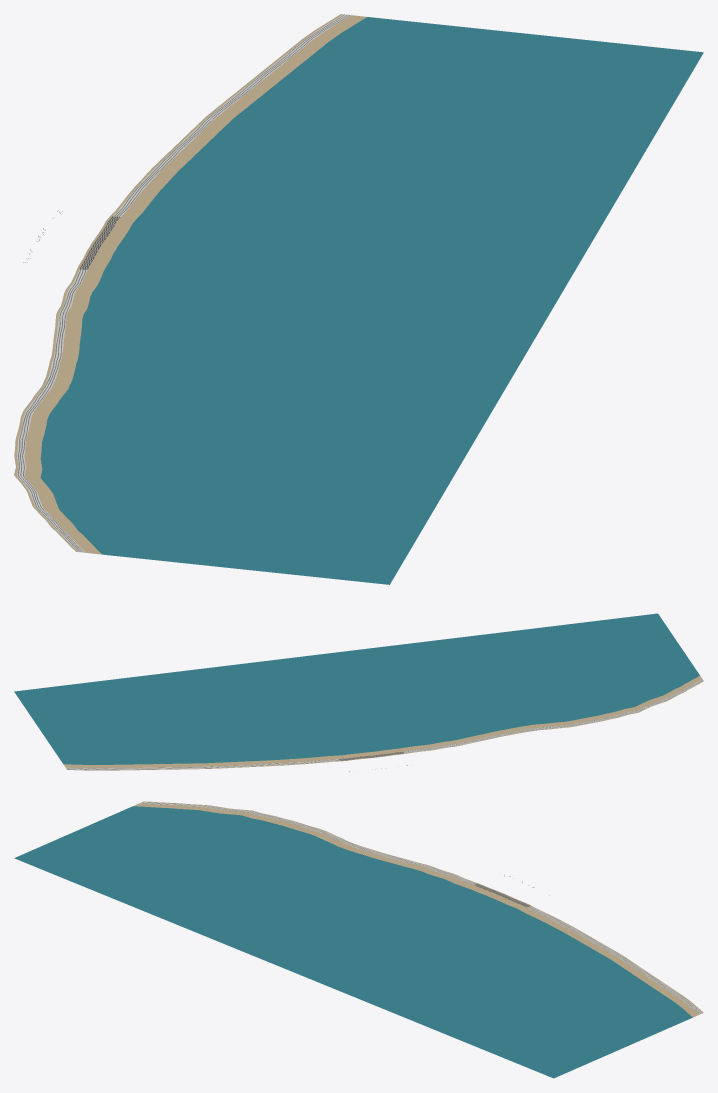
Rendered from R13_OSM_Coastal_Sectors.fbx.
3 views of the same model, one above another, from view 1: azimuth 30°, elevation 25°; view 2: azimuth 150°, elevation 25°; view 3: azimuth 270°, elevation 25° (orthographic). The views are drawn at different scales.
Parts seen in each view (by area): view 1: R13_S05_ocean_far, R13_S04_ocean_far, R13_S06_ocean_far, R13_S03_ocean_far, R13_S07_ocean_far, R13_S02_ocean_far, R13_S01_ocean_far, R13_S08_ocean_far, R13_S09_ocean_far, R13_S00_ocean_far, R13_S09_ocean_near, R13_S08_ocean_near (+8 smaller); view 2: R13_S05_ocean_far, R13_S04_ocean_far, R13_S06_ocean_far, R13_S03_ocean_far, R13_S07_ocean_far, R13_S02_ocean_far, R13_S01_ocean_far, R13_S08_ocean_far, R13_S09_ocean_far, R13_S00_ocean_far, R13_S08_ocean_near, R13_S05_ocean_near (+8 smaller); view 3: R13_S05_ocean_far, R13_S04_ocean_far, R13_S06_ocean_far, R13_S03_ocean_far, R13_S07_ocean_far, R13_S02_ocean_far, R13_S01_ocean_far, R13_S08_ocean_far, R13_S09_ocean_far, R13_S00_ocean_far, R13_S00_ocean_near, R13_S01_ocean_near (+8 smaller).
Part boxes in pixels (left/top/right/bottom): R13_S05_ocean_far: left=141, top=223, right=577, bottom=318; R13_S04_ocean_far: left=119, top=276, right=546, bottom=371; R13_S06_ocean_far: left=174, top=171, right=609, bottom=265; R13_S03_ocean_far: left=109, top=330, right=514, bottom=424; R13_S07_ocean_far: left=221, top=120, right=640, bottom=211; R13_S02_ocean_far: left=82, top=385, right=483, bottom=478; R13_S01_ocean_far: left=78, top=439, right=452, bottom=531; R13_S08_ocean_far: left=274, top=70, right=671, bottom=158; R13_S09_ocean_far: left=336, top=21, right=703, bottom=105; R13_S00_ocean_far: left=90, top=497, right=420, bottom=584; R13_S09_ocean_near: left=299, top=17, right=404, bottom=69; R13_S08_ocean_near: left=236, top=66, right=335, bottom=119; R13_S05_ocean_far: left=272, top=652, right=394, bottom=747; R13_S04_ocean_far: left=336, top=644, right=457, bottom=739; R13_S06_ocean_far: left=207, top=660, right=330, bottom=752; R13_S03_ocean_far: left=401, top=637, right=519, bottom=729; R13_S07_ocean_far: left=143, top=668, right=263, bottom=755; R13_S02_ocean_far: left=465, top=629, right=583, bottom=717; R13_S01_ocean_far: left=529, top=621, right=641, bottom=708; R13_S08_ocean_far: left=78, top=676, right=196, bottom=756; R13_S09_ocean_far: left=14, top=683, right=127, bottom=756; R13_S00_ocean_far: left=594, top=613, right=694, bottom=692; R13_S08_ocean_near: left=128, top=755, right=201, bottom=764; R13_S05_ocean_near: left=331, top=740, right=400, bottom=755; R13_S05_ocean_far: left=284, top=895, right=504, bottom=990; R13_S04_ocean_far: left=230, top=874, right=450, bottom=968; R13_S06_ocean_far: left=338, top=917, right=552, bottom=1012; R13_S03_ocean_far: left=176, top=856, right=392, bottom=946; R13_S07_ocean_far: left=392, top=942, right=596, bottom=1034; R13_S02_ocean_far: left=122, top=835, right=330, bottom=923; R13_S01_ocean_far: left=68, top=820, right=274, bottom=901; R13_S08_ocean_far: left=446, top=968, right=638, bottom=1056; R13_S09_ocean_far: left=500, top=995, right=676, bottom=1078; R13_S00_ocean_far: left=14, top=813, right=204, bottom=879; R13_S00_ocean_near: left=118, top=806, right=219, bottom=820; R13_S01_ocean_near: left=205, top=813, right=290, bottom=834.
Size of what is drawn, in the model's own units: 174743 by 305 by 183905.
Materials: 11 (5 with a texture image).
